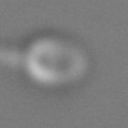normal: (1, 42, 26, 74)
